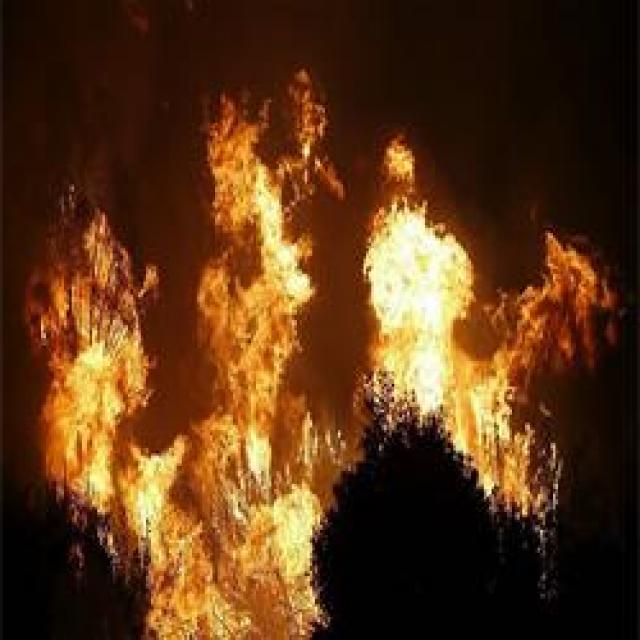fire: (147, 486, 320, 640), (361, 205, 476, 399), (203, 266, 305, 472), (40, 341, 140, 496), (207, 107, 264, 222)
